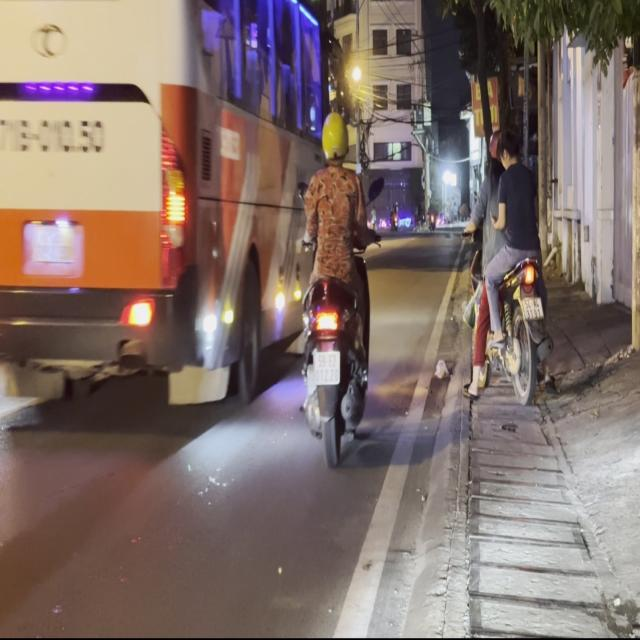helmet: (320, 110, 349, 164)
licenseplate: (296, 109, 375, 465), (472, 112, 552, 402)
motorcyclist: (497, 122, 524, 166)
nohelmet: (313, 352, 340, 385), (520, 296, 544, 318)
